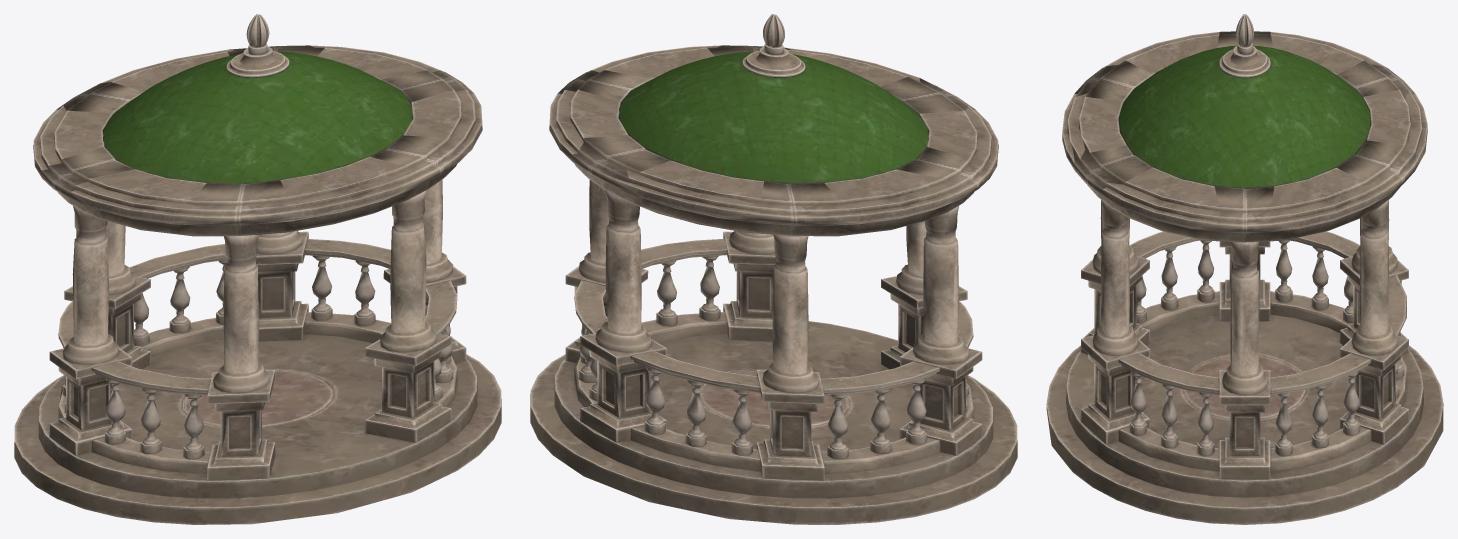
The model's file is rotunda-lo.glb.
3 views of the same model, side by side, from view 1: azimuth 30°, elevation 25°; view 2: azimuth 150°, elevation 25°; view 3: azimuth 270°, elevation 25° (orthographic). The views are drawn at different scales.
Visible parts, largest first — view 1: rotunda-lo, rotunda-lo roof; view 2: rotunda-lo, rotunda-lo roof; view 3: rotunda-lo, rotunda-lo roof.
Part boxes in pixels (bbox=[...]): rotunda-lo: bbox=[14, 45, 501, 524]; rotunda-lo roof: bbox=[134, 14, 381, 149]; rotunda-lo: bbox=[530, 45, 1017, 524]; rotunda-lo roof: bbox=[650, 14, 897, 149]; rotunda-lo: bbox=[1046, 31, 1443, 524]; rotunda-lo roof: bbox=[1144, 14, 1345, 153].
Size of the model in its own units: 20 by 18 by 15.98.
Materials: 1 (1 with a texture image).
